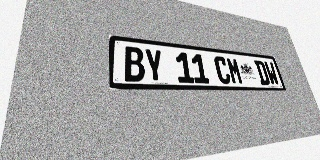1: (174, 51, 194, 83), (190, 53, 209, 83)
B: (123, 46, 145, 82)
C: (213, 56, 232, 84)
D: (254, 60, 271, 85)
M: (226, 57, 244, 84)
W: (263, 61, 280, 85)
Y: (144, 48, 165, 82)
